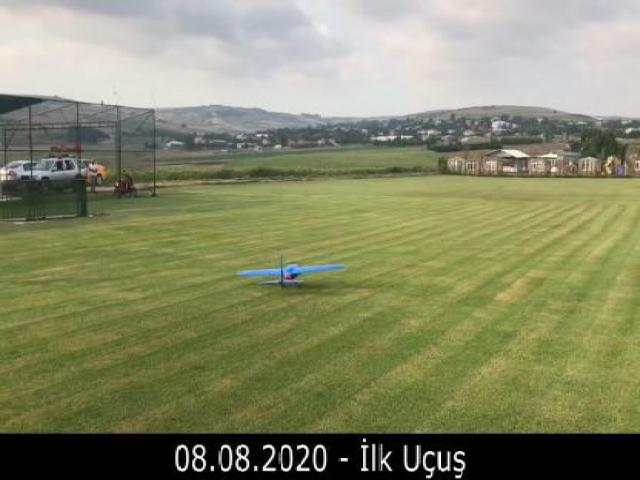uav: (232, 244, 348, 299)
